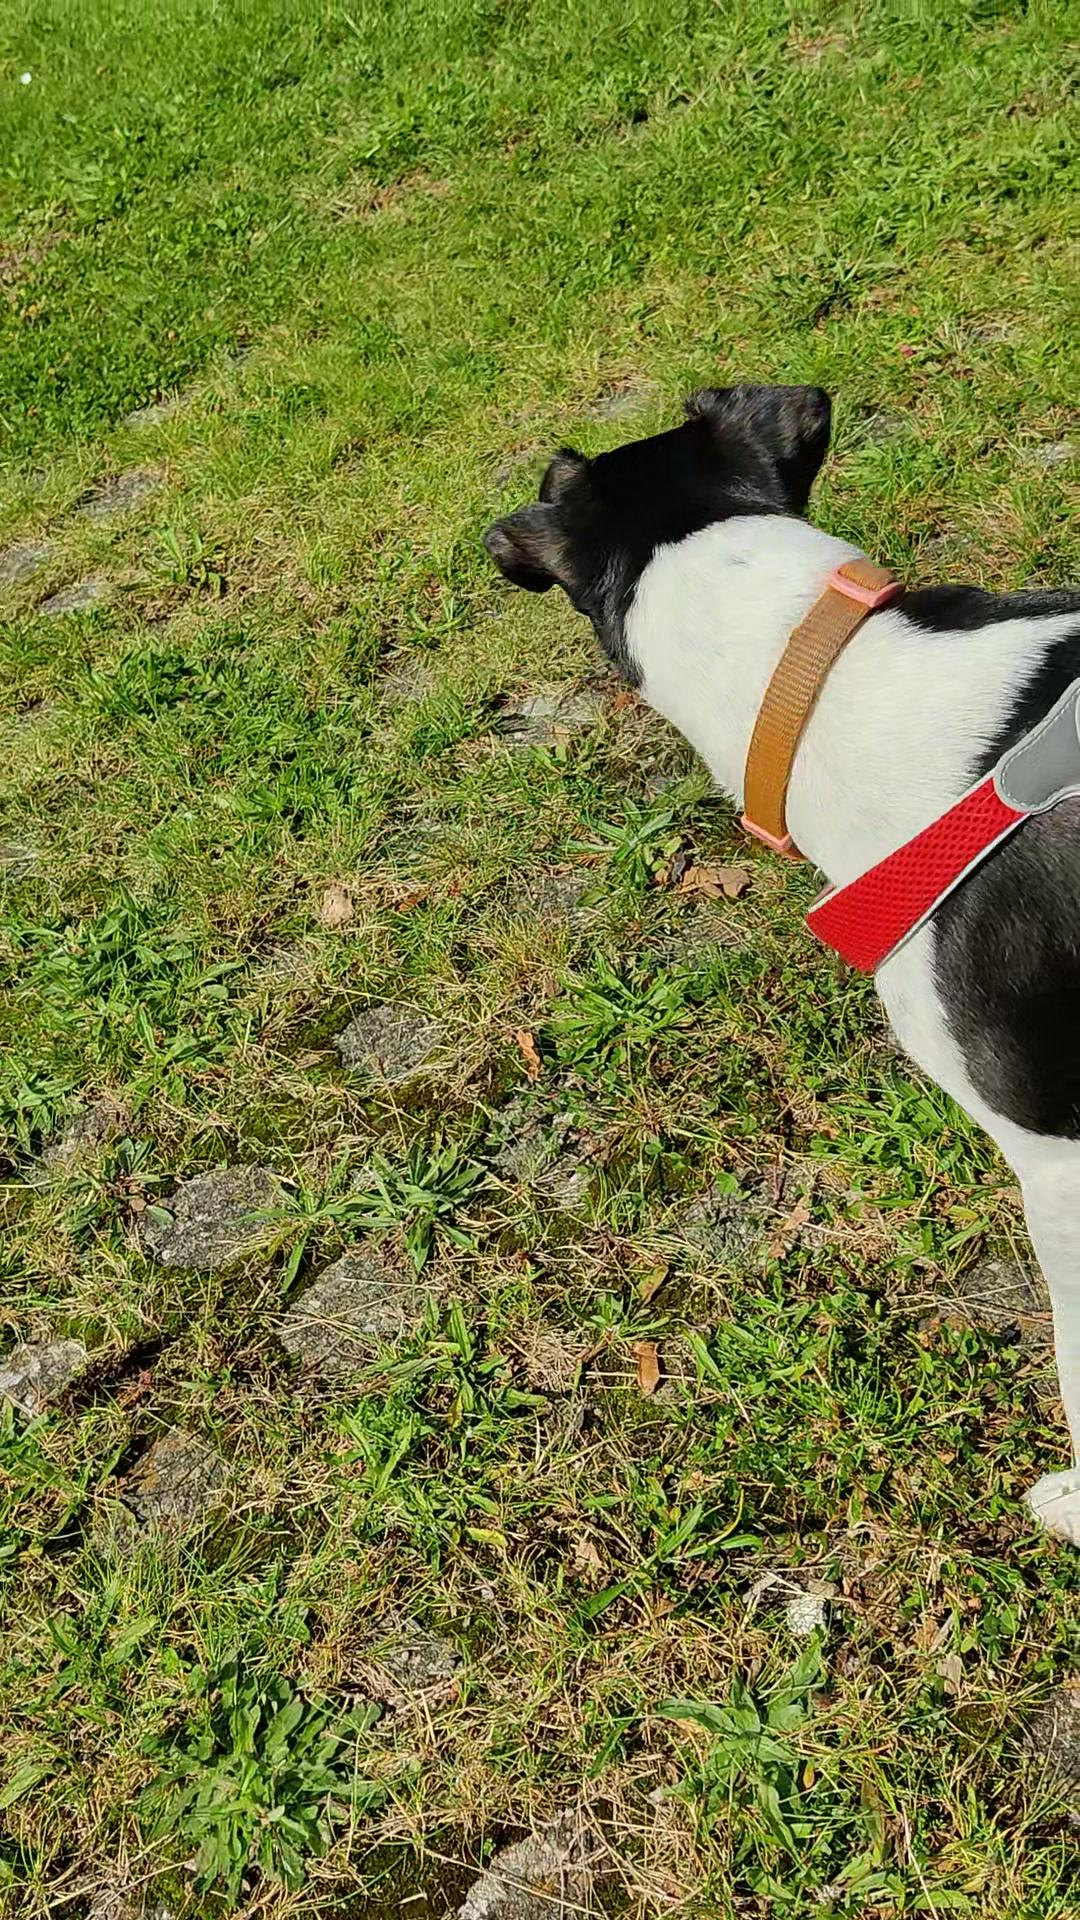Dog: (425, 328, 1079, 1585)
